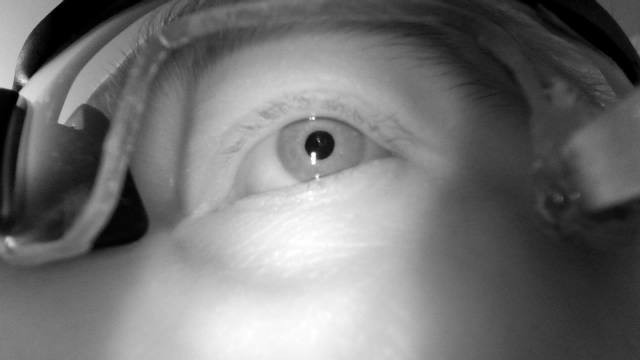pupil: (304, 130, 336, 161)
